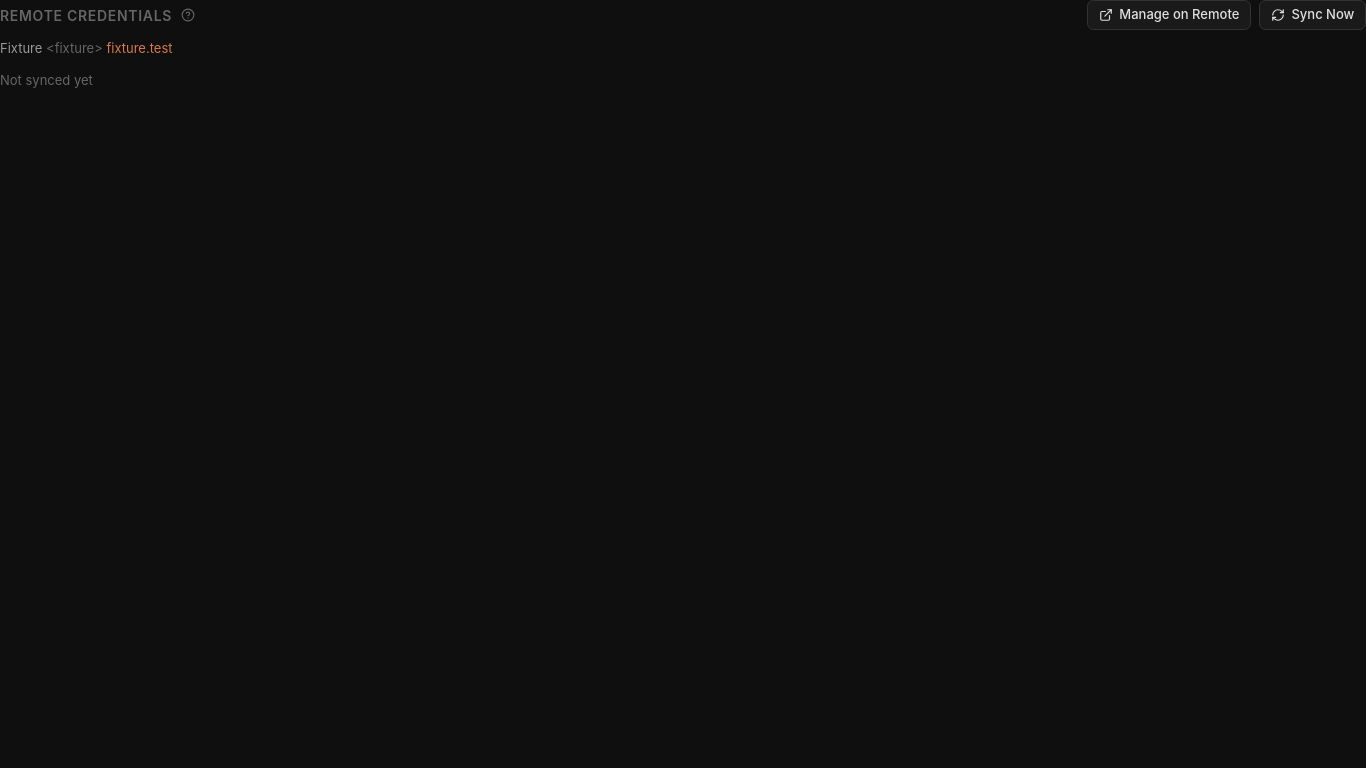
it: explains beside the remote title that only locally usable credentials are listed
This screenshot has width=1366, height=768.
Step 1. Click the button named "About remote credentials" → (188, 15), box [178,6,197,24]
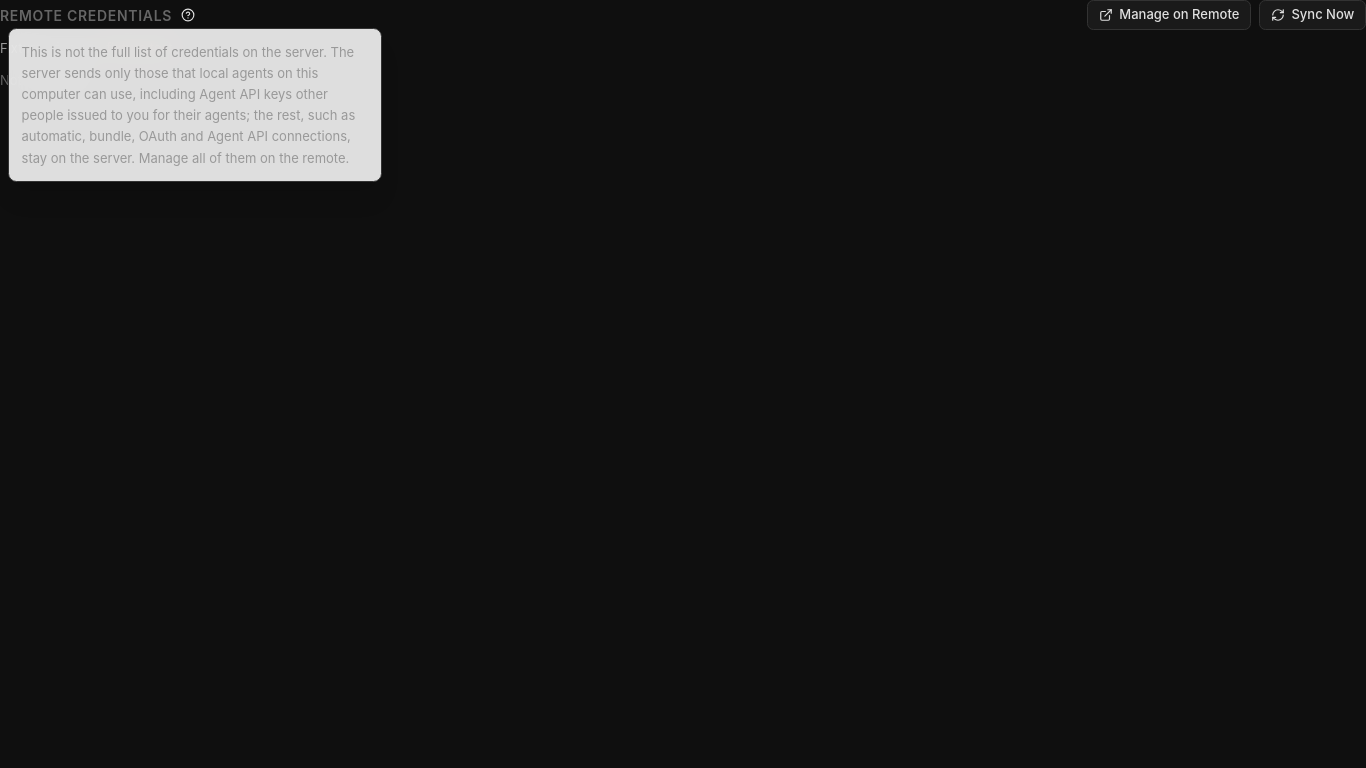
Check: the dialog named "About remote credentials" shows "not the full list", box [22,44,355,166]
Check: the dialog named "About remote credentials" shows "including Agent API keys other people issued to you for their agents; the rest, such as automatic, bundle, OAuth and Agent API connections, stay on the server", box [22,44,355,166]
